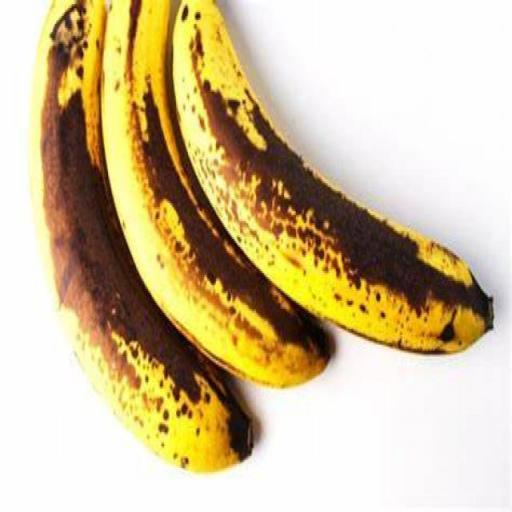fruit: (173, 0, 492, 352), (32, 0, 250, 470), (102, 0, 326, 386)
